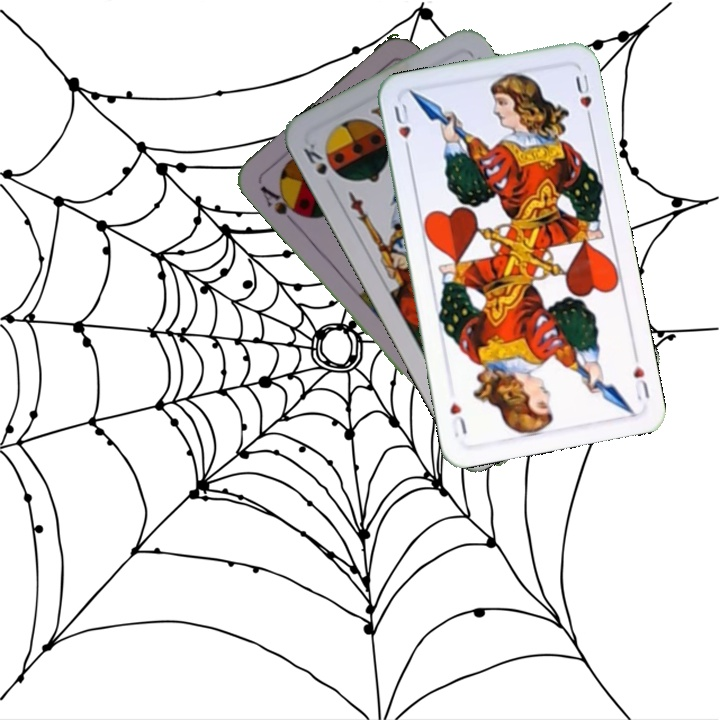HU: (390, 99, 413, 157), (629, 361, 653, 403)
SA: (256, 181, 306, 228)
SK: (299, 138, 336, 193)
